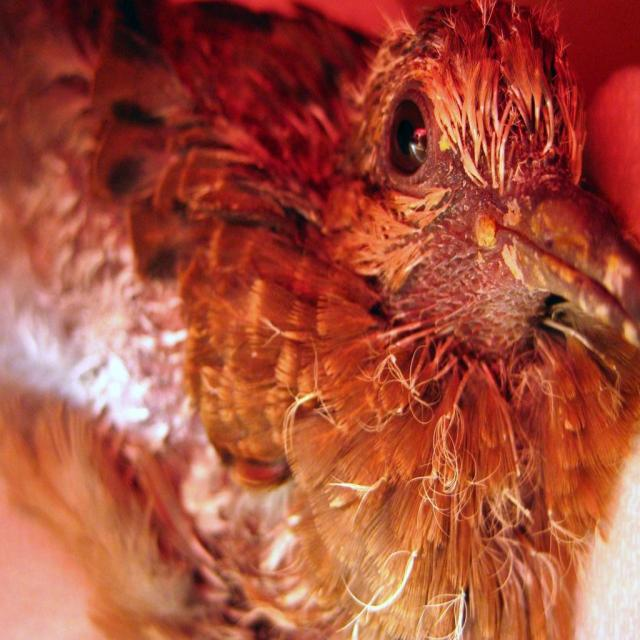Chicken: (28, 0, 639, 624)
